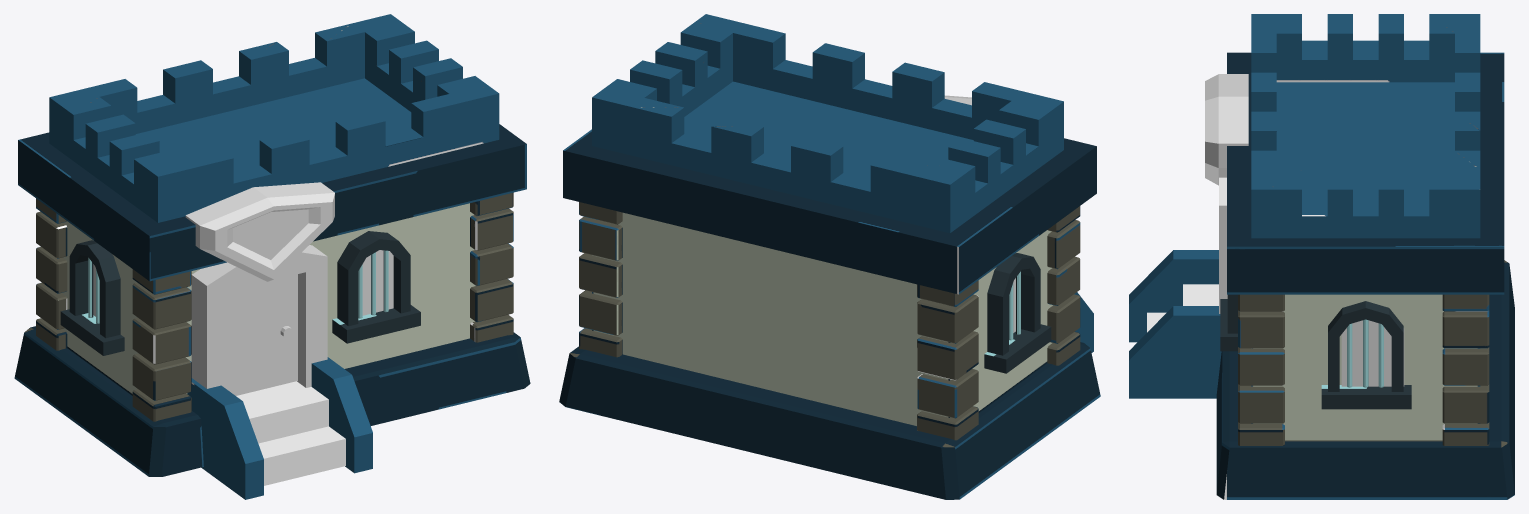
Rendered from ARMY2_210330.fbx.
3 views of the same model, side by side, from view 1: azimuth 30°, elevation 25°; view 2: azimuth 150°, elevation 25°; view 3: azimuth 270°, elevation 25° (orthographic). The views are drawn at different scales.
Visible parts, largest first — view 1: Main Body, Polygon, Cube.010, Cube.011, Cube.001, Cube.002, Plane.003; view 2: Main Body, Cube.002; view 3: Main Body, Cube.014, Polygon, Plane, Cube.010, Cube.001.
Part boxes in pixels (x1,y1,x2,y2): Main Body: [14, 14, 530, 499]; Polygon: [185, 182, 334, 281]; Cube.010: [191, 245, 327, 389]; Cube.011: [228, 274, 297, 395]; Cube.001: [332, 231, 420, 343]; Cube.002: [60, 240, 124, 355]; Plane.003: [362, 250, 393, 315]; Main Body: [559, 14, 1100, 499]; Cube.002: [984, 253, 1051, 373]; Main Body: [1129, 14, 1514, 499]; Cube.014: [1321, 301, 1411, 409]; Polygon: [1205, 74, 1248, 185]; Plane: [1341, 320, 1404, 386]; Cube.010: [1219, 177, 1227, 313]; Cube.001: [1220, 294, 1237, 351].
Bounding box in the file's own units: 1486 × 1067 × 1229.
Materials: 2 (2 with a texture image).
